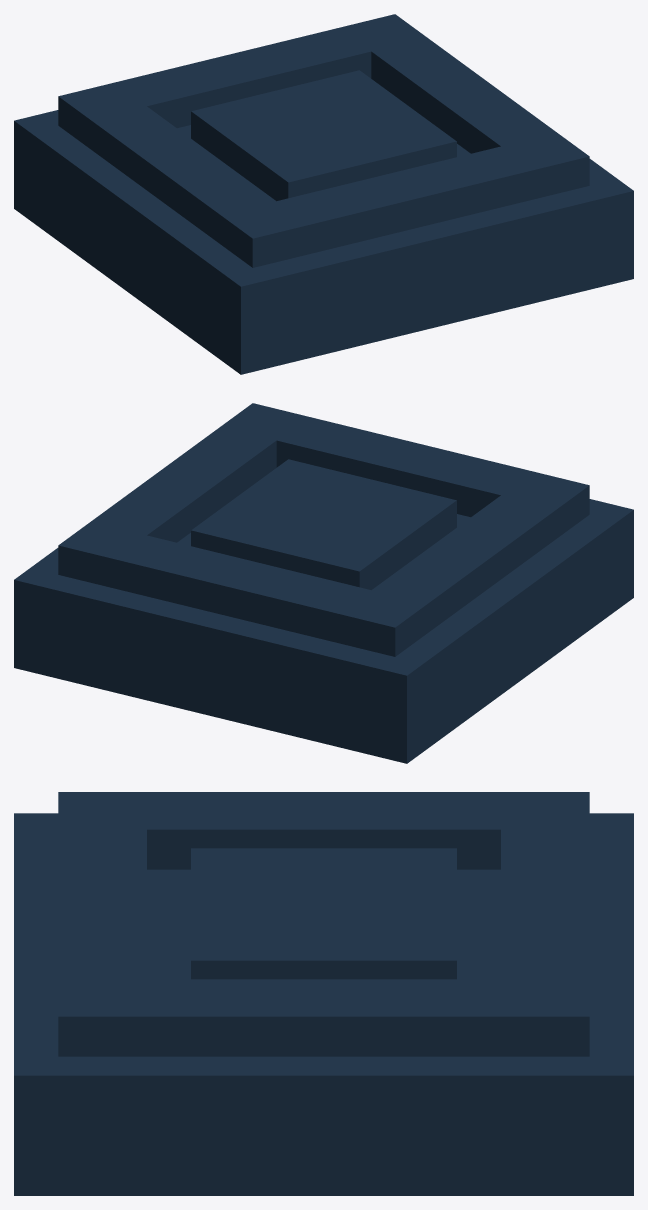
The model's file is man-v3-blue.gltf.
3 renders of one model, top to bottom at view 1: azimuth 30°, elevation 25°; view 2: azimuth 150°, elevation 25°; view 3: azimuth 270°, elevation 25°, orthographic. The views are drawn at different scales.
Visible parts, largest first — view 1: Untitled; view 2: Untitled; view 3: Untitled.
Part boxes in pixels (x1,y1,x2,y2): Untitled: [14, 14, 633, 374]; Untitled: [14, 403, 633, 763]; Untitled: [14, 792, 633, 1195].
Bounding box in the file's own units: 1.4 × 0.4 × 1.4.
Materials: 1 (1 with a texture image).
